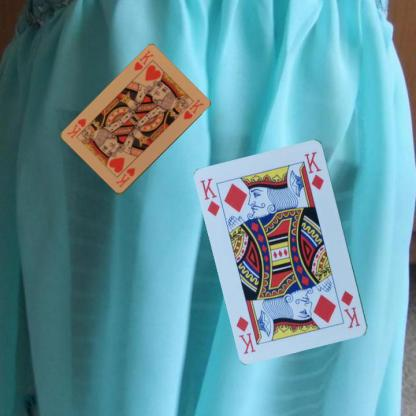Kd: (197, 175, 222, 218), (338, 288, 362, 330)
Kh: (131, 48, 156, 73), (113, 165, 136, 189)
